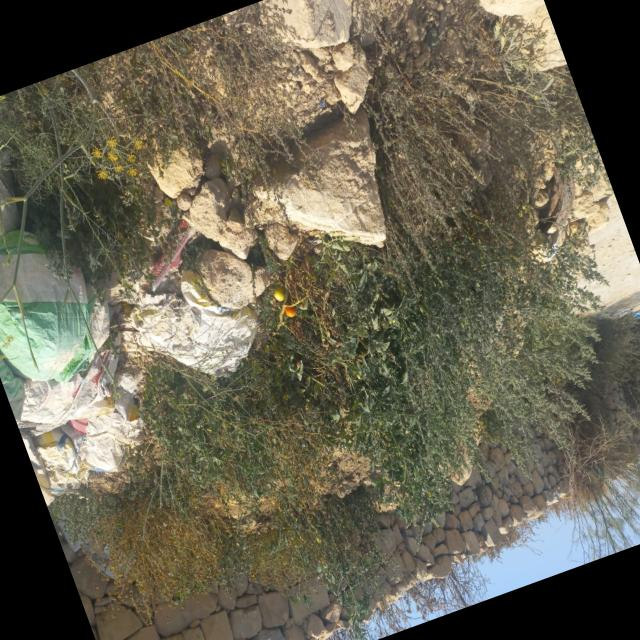Other litter: (17, 325, 145, 507), (123, 270, 263, 379), (536, 161, 577, 264)
Other plastic: (57, 511, 135, 583), (151, 220, 196, 291), (115, 372, 144, 394), (616, 309, 640, 320)
Plastic bag - wrapper: (0, 145, 112, 427)
